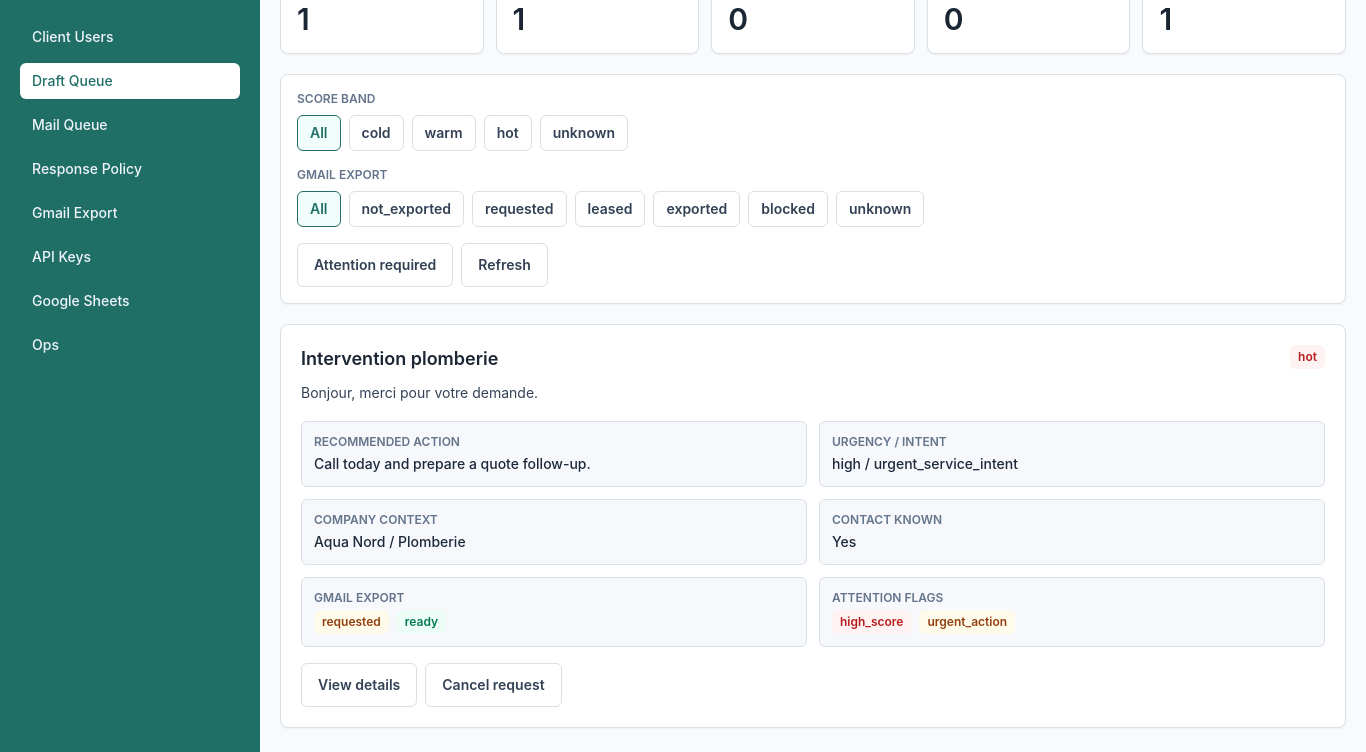
Test: admin app › cancels a Gmail export request from the draft queue
(page scrolled)
Click the button "Cancel request".
click(493, 685)  # box [425,663,562,707]
(page scrolled)
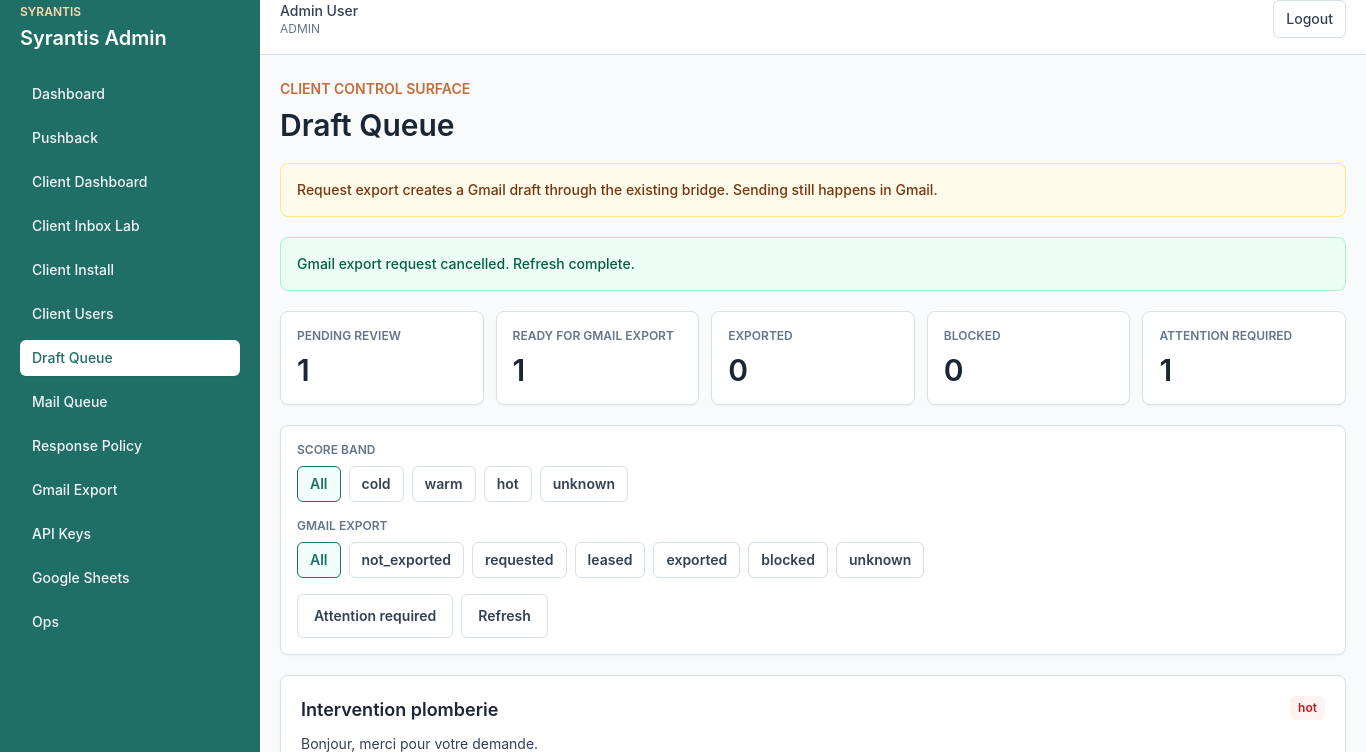
Expected: the text "Gmail export request cancelled. Refresh complete." is shown, [280,237,1346,291]
